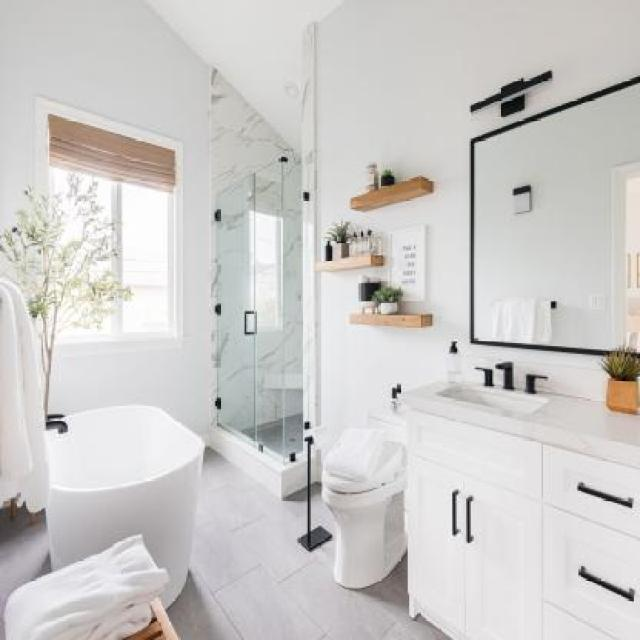floor: (164, 449, 452, 640)
